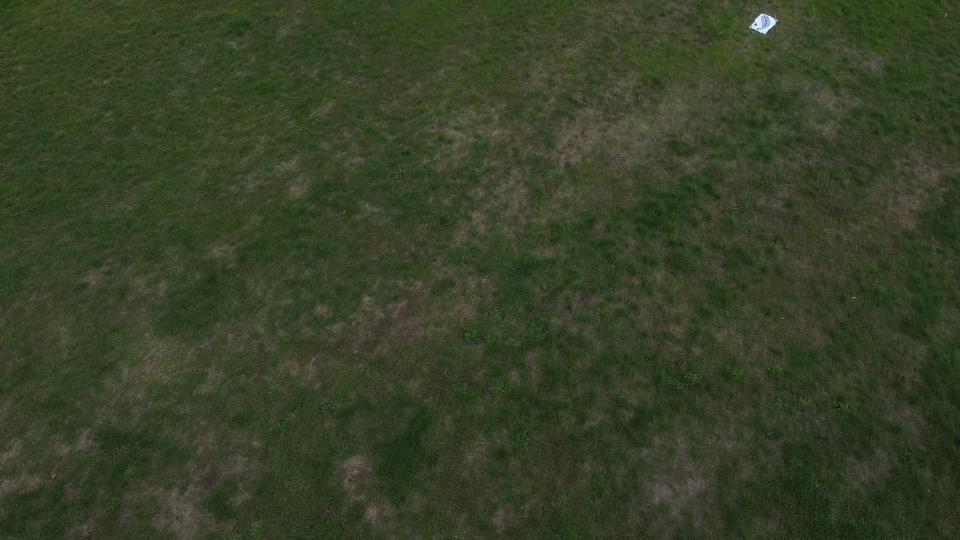zebra_single: (754, 14, 773, 31)
